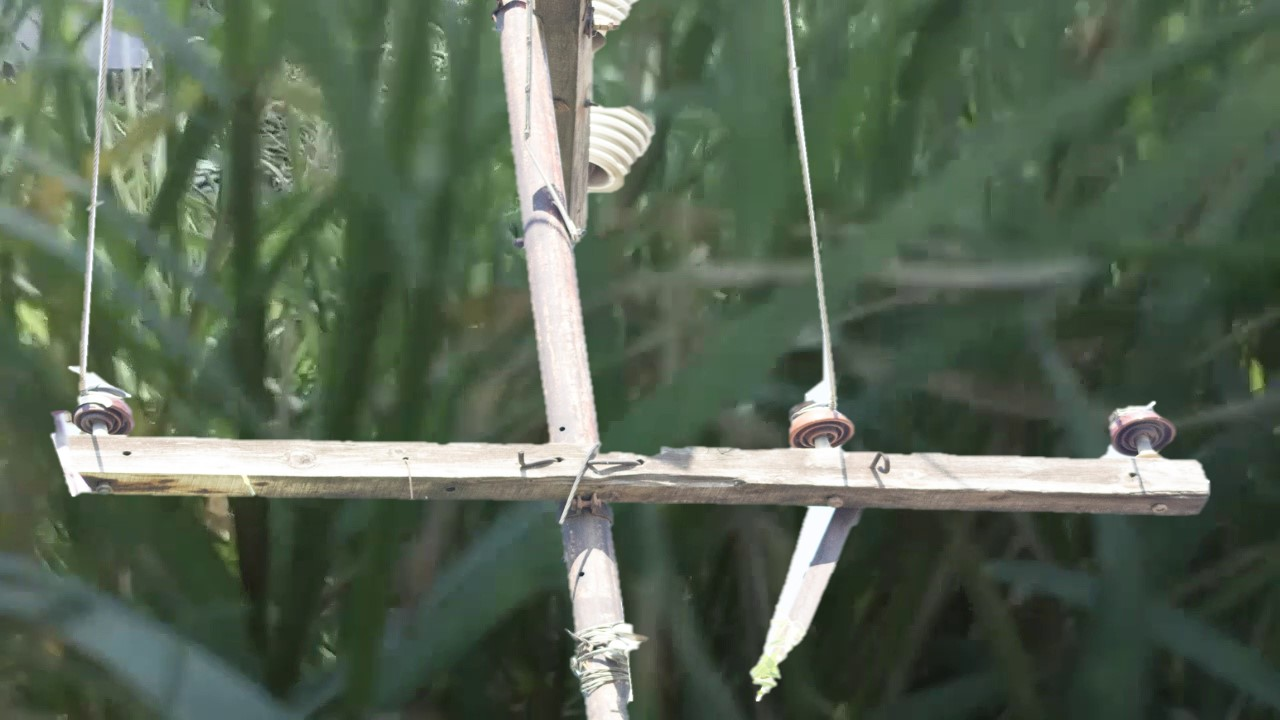defect_pin: (71, 382, 135, 437)
insulator_pin: (1103, 396, 1179, 454), (783, 400, 862, 448)
